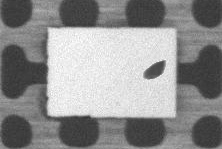DIE_INK: (143, 59, 166, 80)
